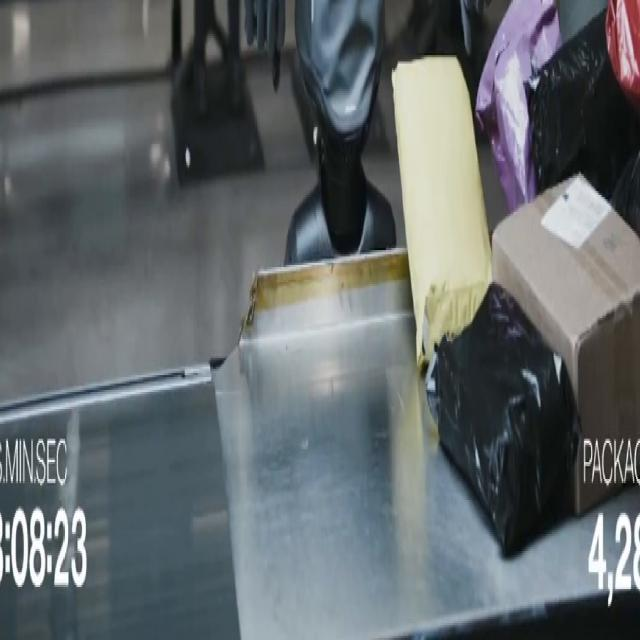package: (493, 176, 639, 514), (427, 284, 579, 555), (392, 58, 491, 368), (528, 11, 637, 199), (476, 0, 560, 211), (606, 0, 639, 112), (611, 157, 639, 239), (556, 0, 607, 42)
